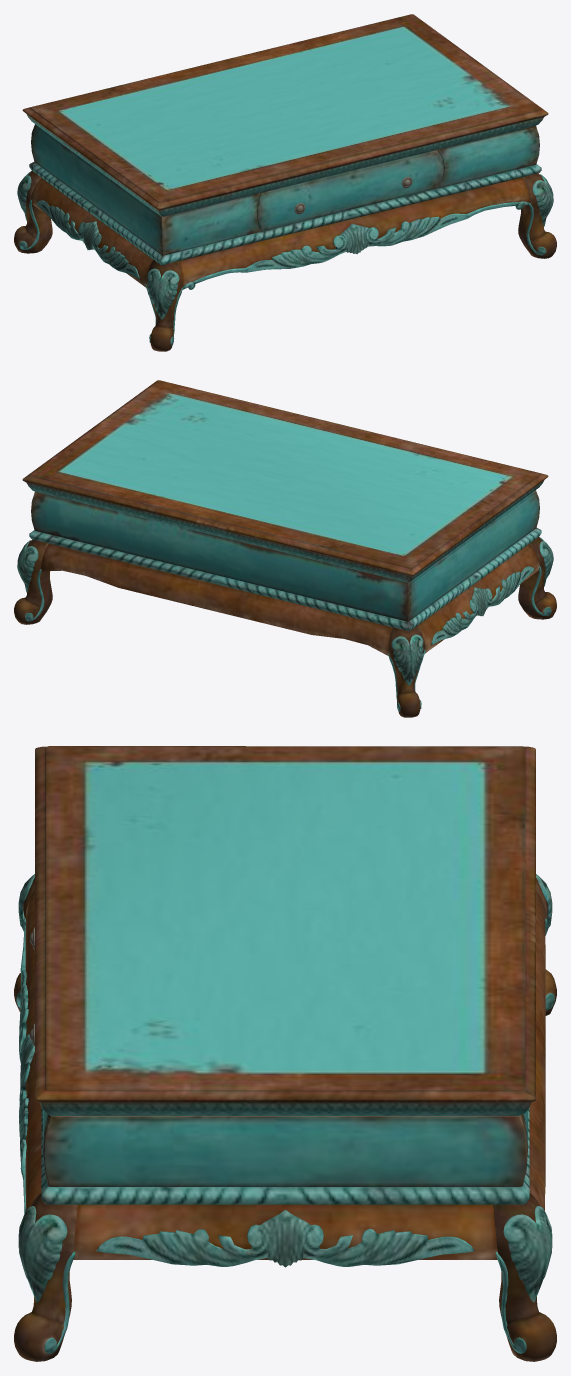
File: coffee_table.glb
The picture shows the model from 3 angles, top to bottom: view 1: azimuth 30°, elevation 25°; view 2: azimuth 150°, elevation 25°; view 3: azimuth 270°, elevation 25°; orthographic projection. The views are drawn at different scales.
Visible parts, largest first — view 1: CoffeeTable_01; view 2: CoffeeTable_01; view 3: CoffeeTable_01.
Part boxes in pixels (x1,y1,x2,y2): CoffeeTable_01: [14, 14, 556, 351]; CoffeeTable_01: [14, 380, 556, 717]; CoffeeTable_01: [14, 746, 556, 1361].
Size of the model in its own units: 1.54 by 0.5232 by 0.9728.
1 material, 1 textured.
